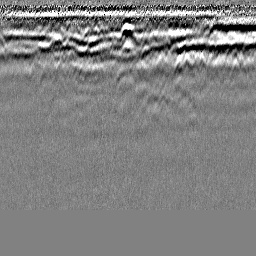cavity: (117, 22, 139, 44)
